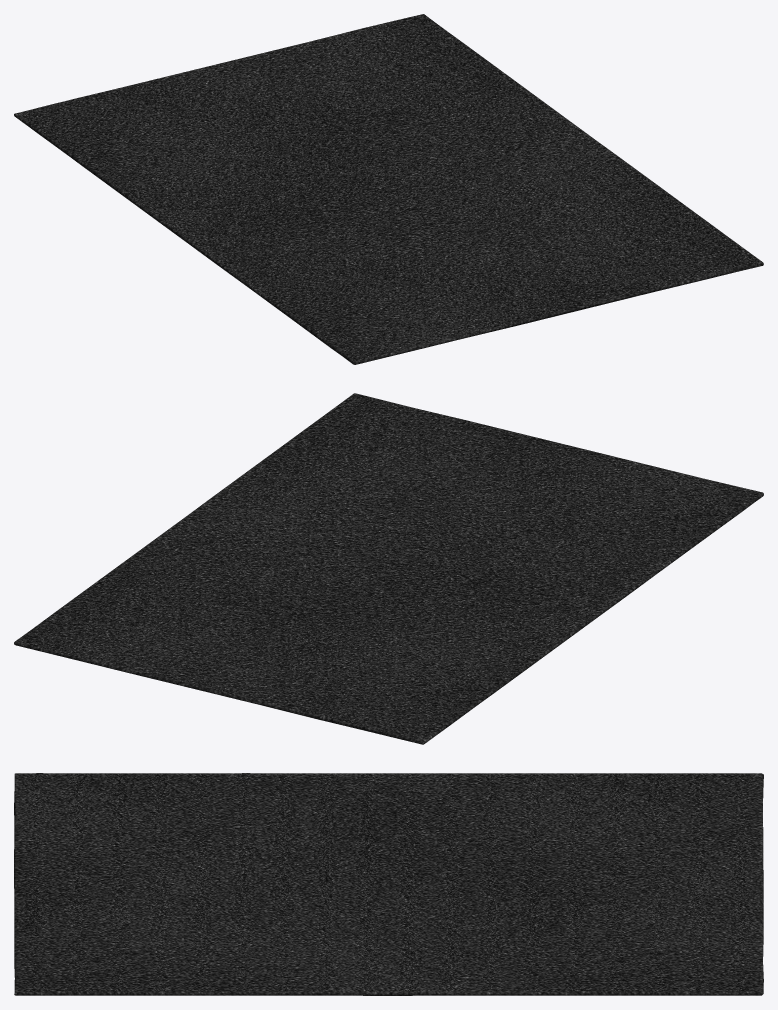
3 views of the same model, one above another, from view 1: azimuth 30°, elevation 25°; view 2: azimuth 150°, elevation 25°; view 3: azimuth 270°, elevation 25° (orthographic). The views are drawn at different scales.
Parts seen in each view (by area): view 1: Rug_low; view 2: Rug_low; view 3: Rug_low.
Boxes of the visible parts, left/top/right/bottom form: Rug_low: left=14, top=14, right=763, bottom=364; Rug_low: left=14, top=393, right=763, bottom=744; Rug_low: left=14, top=773, right=763, bottom=995.
Size of the model in its own units: 63.03 by 0.5418 by 90.79.
1 material, 1 textured.
